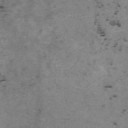oxide scale of temperature system: (94, 2, 128, 52), (103, 84, 118, 101), (0, 72, 8, 88), (35, 108, 43, 124), (0, 4, 6, 13), (120, 108, 126, 114), (112, 122, 118, 126), (110, 61, 114, 66), (21, 67, 26, 71), (35, 74, 40, 78)
